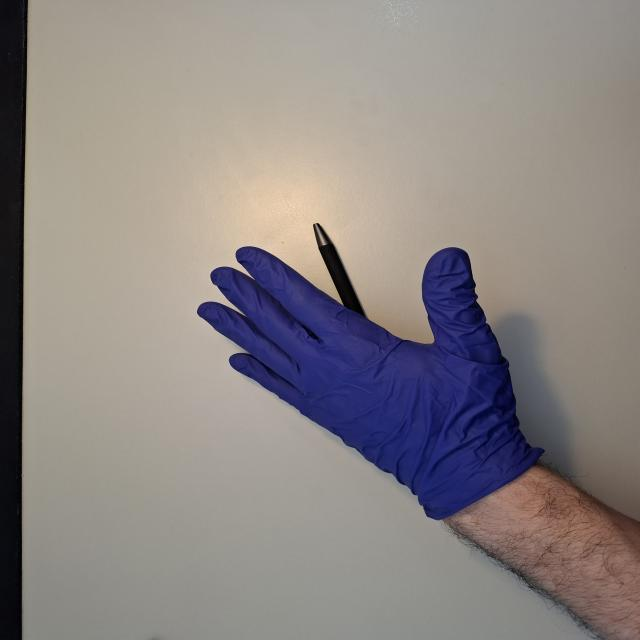glove_on: (193, 243, 542, 524)
